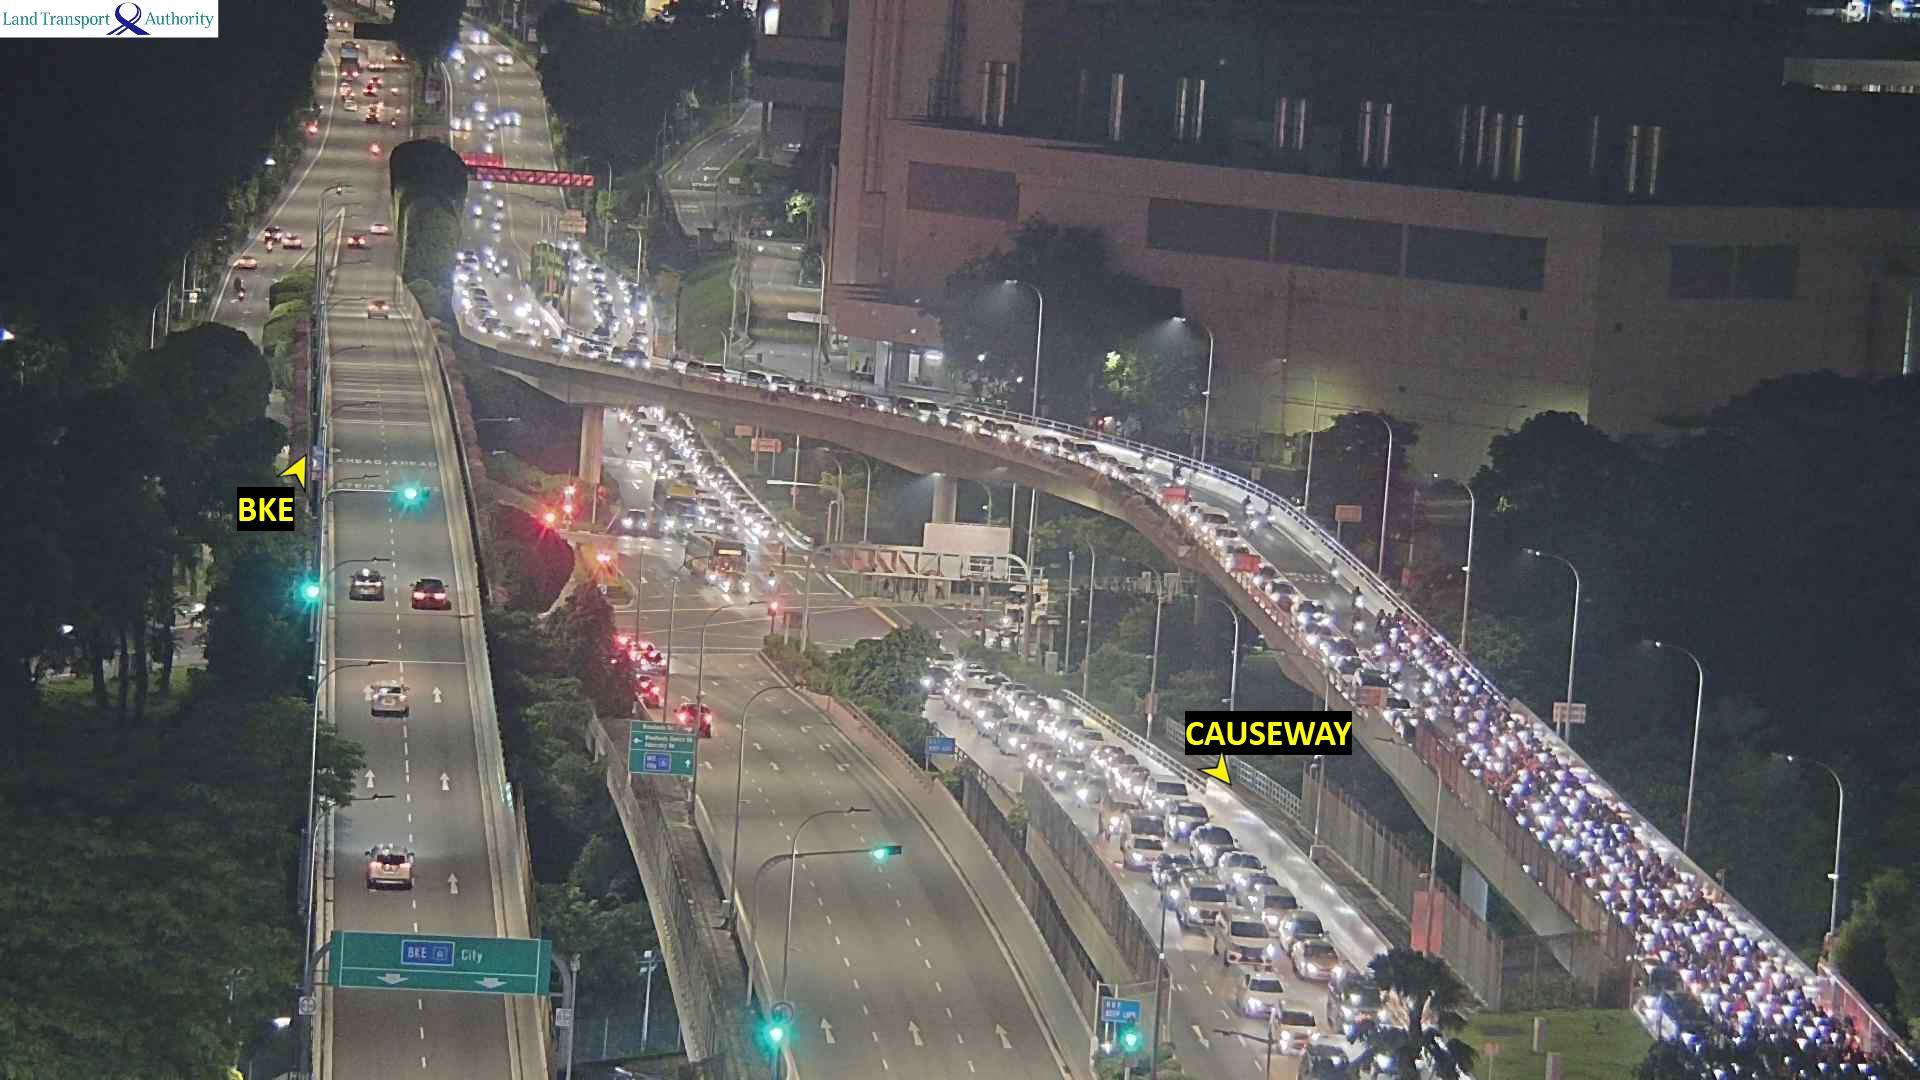vehicle-causeway-johor: (1255, 894, 1317, 946), (699, 523, 753, 577), (1295, 1032, 1354, 1079), (715, 554, 763, 603), (1274, 999, 1321, 1049), (1302, 948, 1345, 997), (1044, 759, 1101, 793), (1230, 860, 1274, 903), (1145, 858, 1193, 896), (1242, 979, 1297, 1011), (1183, 901, 1233, 935), (972, 706, 1024, 736), (1177, 822, 1218, 859), (1283, 925, 1322, 963), (1184, 871, 1224, 906), (1114, 820, 1157, 852), (1214, 934, 1271, 957), (1640, 987, 1679, 1020), (1123, 836, 1171, 861), (1014, 732, 1055, 761), (1155, 796, 1191, 826), (1126, 774, 1166, 800), (1295, 617, 1332, 645), (1085, 787, 1120, 816), (1095, 800, 1132, 827), (1199, 519, 1234, 545), (1315, 639, 1348, 666), (1092, 452, 1127, 477), (1385, 707, 1414, 737), (1091, 752, 1130, 774), (1256, 581, 1288, 607), (962, 410, 995, 434), (470, 304, 504, 327), (1102, 759, 1145, 777), (1352, 671, 1386, 693), (1275, 604, 1307, 627), (953, 693, 987, 714), (1122, 773, 1159, 792), (675, 475, 701, 500), (1023, 701, 1052, 723), (1059, 724, 1092, 743), (463, 261, 488, 285), (656, 357, 689, 375), (667, 468, 693, 490), (893, 401, 926, 418), (1122, 470, 1151, 488), (1155, 482, 1184, 500), (1067, 445, 1095, 463), (469, 292, 495, 311), (1333, 660, 1362, 677), (783, 383, 818, 397), (623, 350, 653, 366), (760, 525, 785, 544), (1042, 714, 1068, 732), (726, 369, 755, 385), (1001, 426, 1026, 444), (478, 317, 506, 333), (698, 499, 721, 518), (862, 396, 892, 410), (751, 516, 777, 532), (688, 490, 711, 508), (927, 411, 958, 424), (1219, 541, 1244, 557), (1211, 527, 1236, 543), (734, 499, 755, 518), (458, 285, 486, 299), (697, 452, 720, 469), (997, 678, 1016, 698), (591, 320, 620, 333), (622, 414, 645, 430), (706, 508, 727, 525), (1005, 685, 1039, 695), (702, 470, 727, 483), (1184, 507, 1208, 520), (726, 493, 746, 508), (968, 670, 991, 683), (743, 509, 764, 523), (677, 435, 699, 448), (460, 277, 483, 289), (492, 326, 519, 336), (947, 662, 966, 676), (666, 424, 688, 436), (642, 436, 662, 449), (466, 288, 487, 300), (1035, 438, 1057, 449), (593, 309, 617, 319), (592, 286, 615, 296), (660, 417, 679, 429), (711, 480, 728, 493), (725, 487, 743, 499), (637, 428, 653, 441), (687, 448, 701, 462), (624, 330, 643, 340), (627, 321, 646, 330), (595, 296, 613, 305), (659, 452, 675, 460), (591, 279, 606, 287), (491, 264, 497, 273), (485, 253, 491, 261), (489, 260, 494, 269), (498, 269, 503, 277)
vehicle-causeway-singapore: (370, 850, 414, 882), (411, 581, 450, 608), (353, 567, 383, 602), (679, 703, 710, 730), (373, 689, 407, 713), (367, 296, 392, 320), (347, 232, 365, 246), (428, 538, 428, 547)
